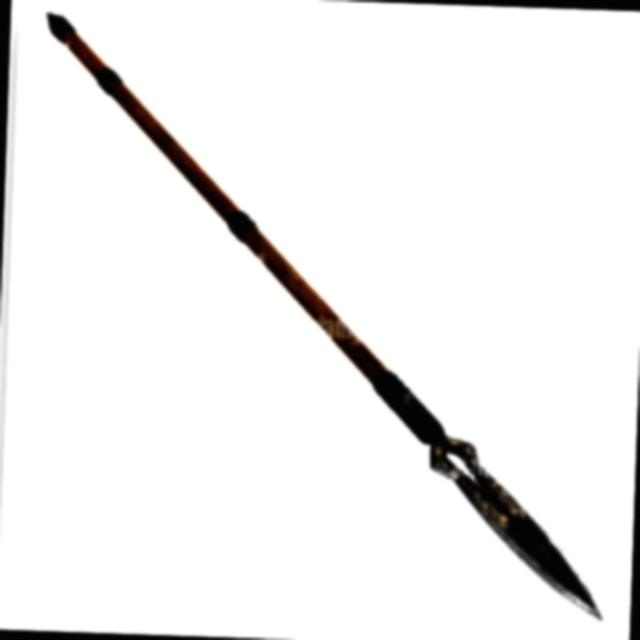spear: (14, 0, 625, 627)
